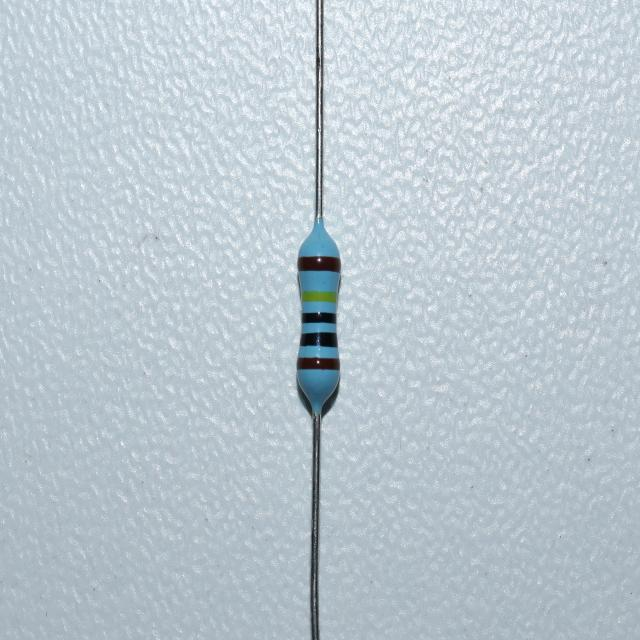resistor: (292, 236, 347, 404)
